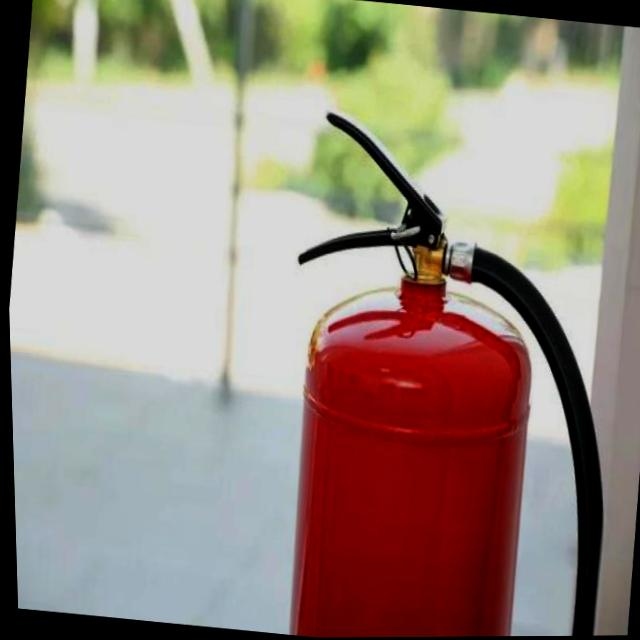FireExtinguisher: (248, 98, 640, 639)
